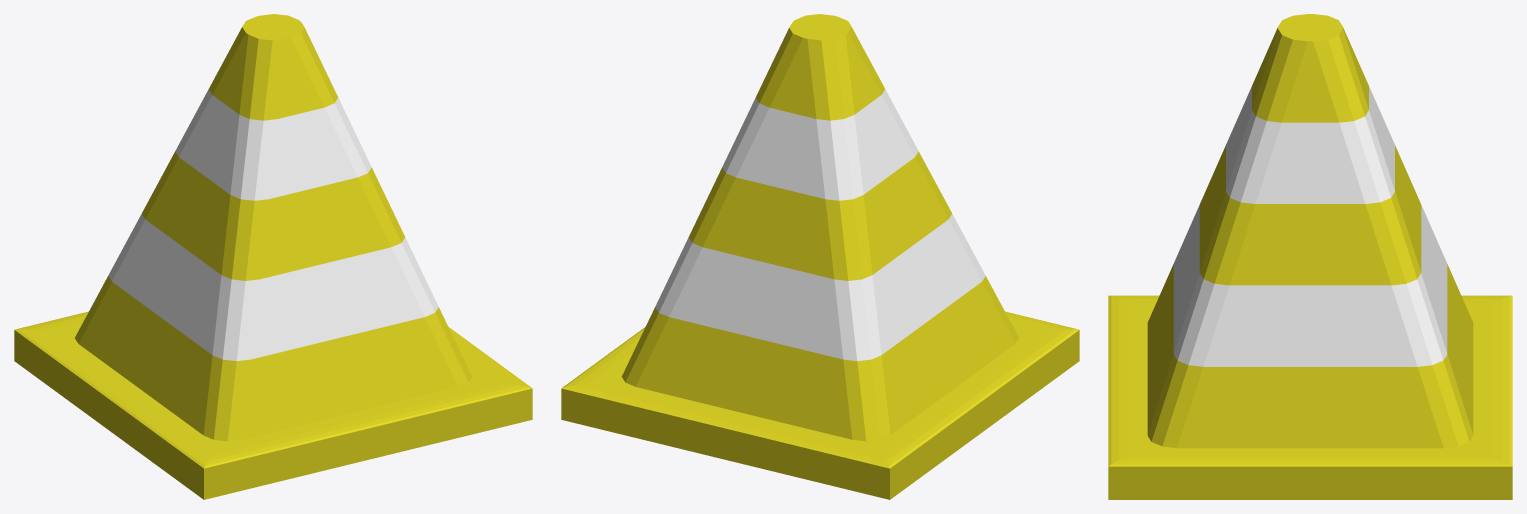
Rendered from TrafficCone.fbx.
3 renders of one model, left to right at view 1: azimuth 30°, elevation 25°; view 2: azimuth 150°, elevation 25°; view 3: azimuth 270°, elevation 25°, orthographic. The views are drawn at different scales.
Parts seen in each view (by area): view 1: Cube; view 2: Cube; view 3: Cube.
Boxes of the visible parts, x1,y1,x2,y2 form: Cube: (14,14,532,499); Cube: (561,14,1079,499); Cube: (1108,14,1512,499).
Bounding box in the file's own units: 200 × 211 × 200.
